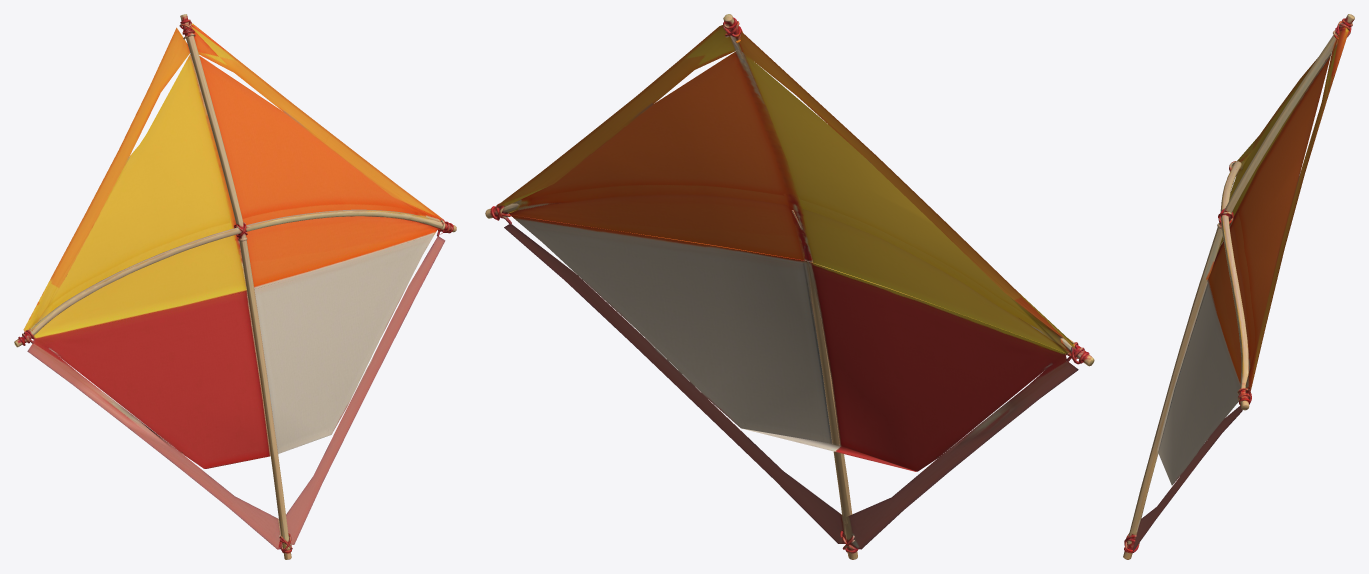
The model's file is colorful+kite+3d+model.glb.
3 renders of one model, left to right at view 1: azimuth 30°, elevation 25°; view 2: azimuth 150°, elevation 25°; view 3: azimuth 270°, elevation 25°, orthographic. The views are drawn at different scales.
Parts seen in each view (by area): view 1: tripo_node_7f46d8c3-f81b-46a1-be44-ceebe60ba38a; view 2: tripo_node_7f46d8c3-f81b-46a1-be44-ceebe60ba38a; view 3: tripo_node_7f46d8c3-f81b-46a1-be44-ceebe60ba38a.
Part boxes in pixels (x1,y1,x2,y2): tripo_node_7f46d8c3-f81b-46a1-be44-ceebe60ba38a: (14,14,456,559); tripo_node_7f46d8c3-f81b-46a1-be44-ceebe60ba38a: (485,14,1094,559); tripo_node_7f46d8c3-f81b-46a1-be44-ceebe60ba38a: (1123,14,1354,559).
Bounding box in the file's own units: 0.98 × 0.9995 × 0.3882.
1 material, 1 textured.
